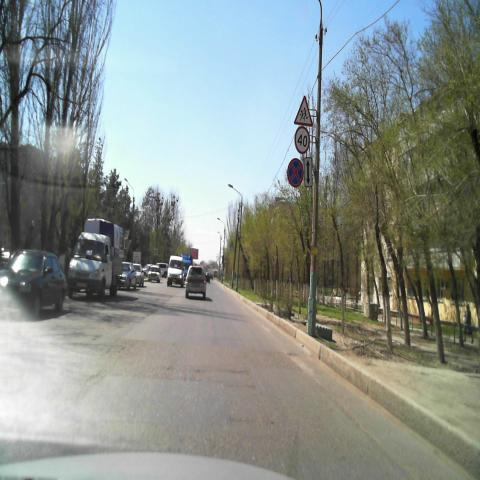8_2_4: (304, 157, 313, 188)
